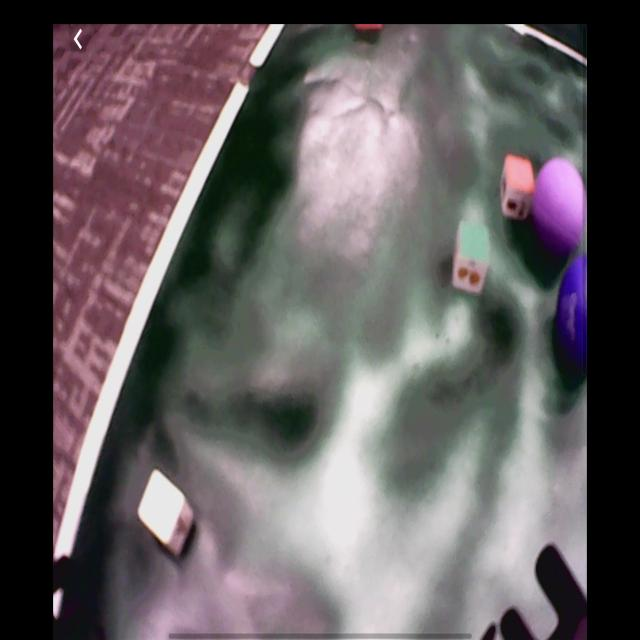ball: (536, 160, 587, 254), (558, 257, 586, 373)
